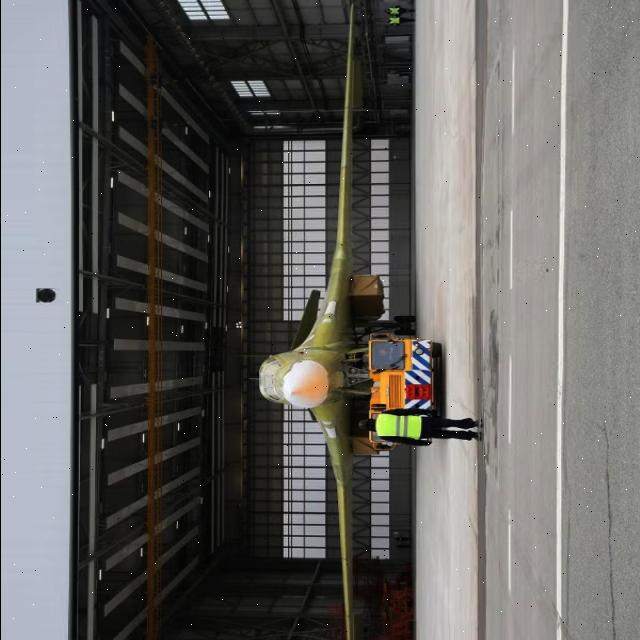Tu160: (219, 0, 462, 640)
